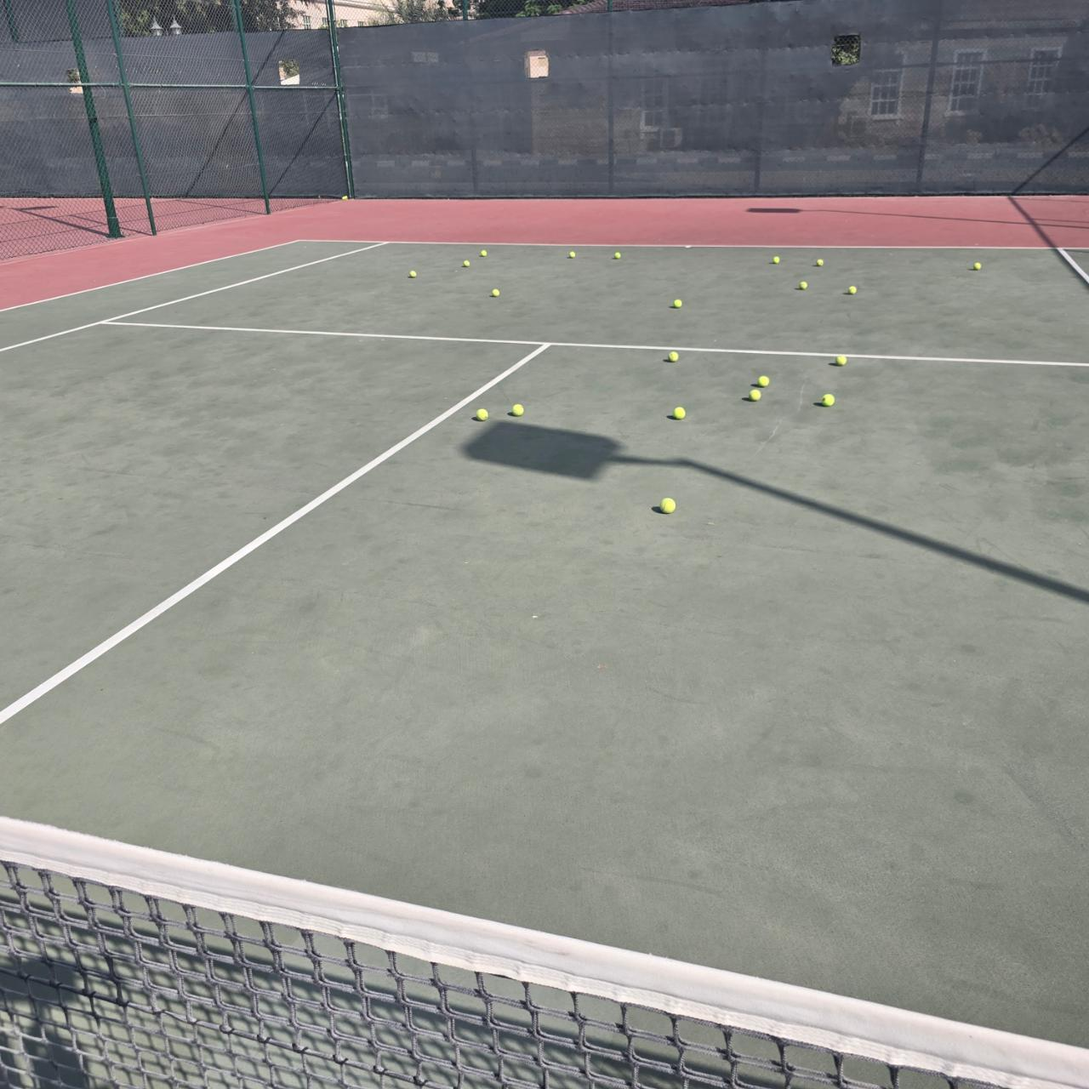tennis-ball: (659, 495, 676, 513), (673, 405, 687, 420), (474, 407, 488, 421), (821, 393, 834, 408), (747, 388, 762, 401), (756, 373, 769, 387), (835, 352, 847, 366), (511, 403, 523, 416), (667, 351, 679, 362), (799, 281, 808, 291), (673, 299, 682, 308), (491, 288, 500, 297), (848, 286, 857, 295), (815, 258, 824, 267), (613, 251, 622, 259), (773, 256, 781, 264), (409, 270, 416, 278), (974, 262, 981, 270), (569, 251, 576, 258), (463, 260, 470, 267), (480, 250, 487, 257), (342, 196, 348, 200)
